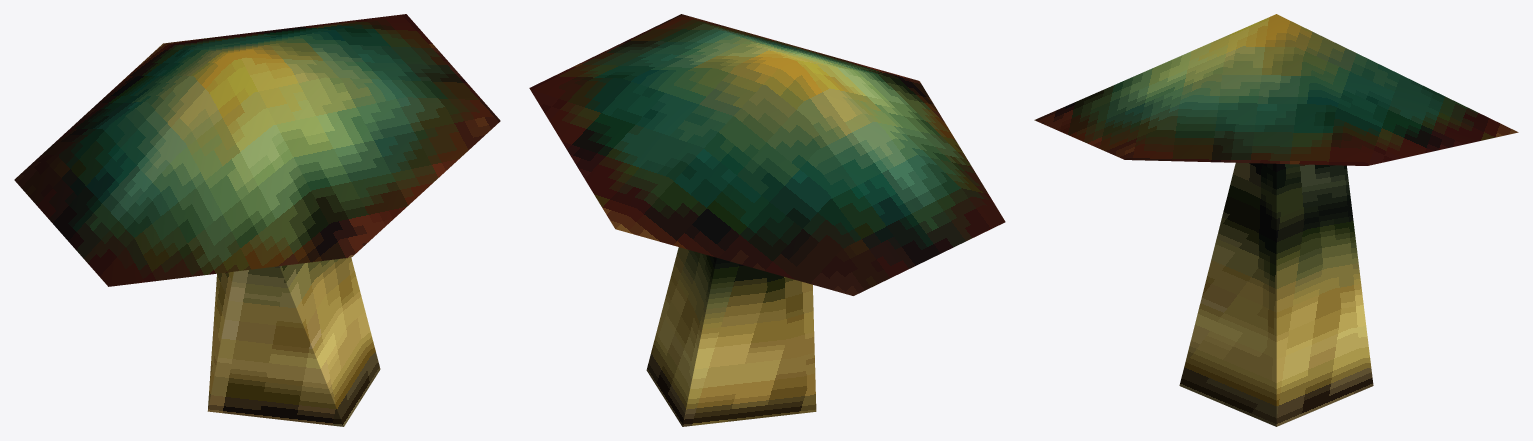
The model's file is frst_fngi_mushroom_blue_sm_l0.fbx.
3 views of the same model, side by side, from view 1: azimuth 30°, elevation 25°; view 2: azimuth 150°, elevation 25°; view 3: azimuth 270°, elevation 25° (orthographic). The views are drawn at different scales.
Parts seen in each view (by area): view 1: mesh_node; view 2: mesh_node; view 3: mesh_node.
Part boxes in pixels (<box>): mesh_node: <box>14,14,500,426</box>; mesh_node: <box>529,14,1005,426</box>; mesh_node: <box>1034,14,1518,426</box>.
Bounding box in the file's own units: 0.2042 × 0.1753 × 0.2252.
1 material, 1 textured.
